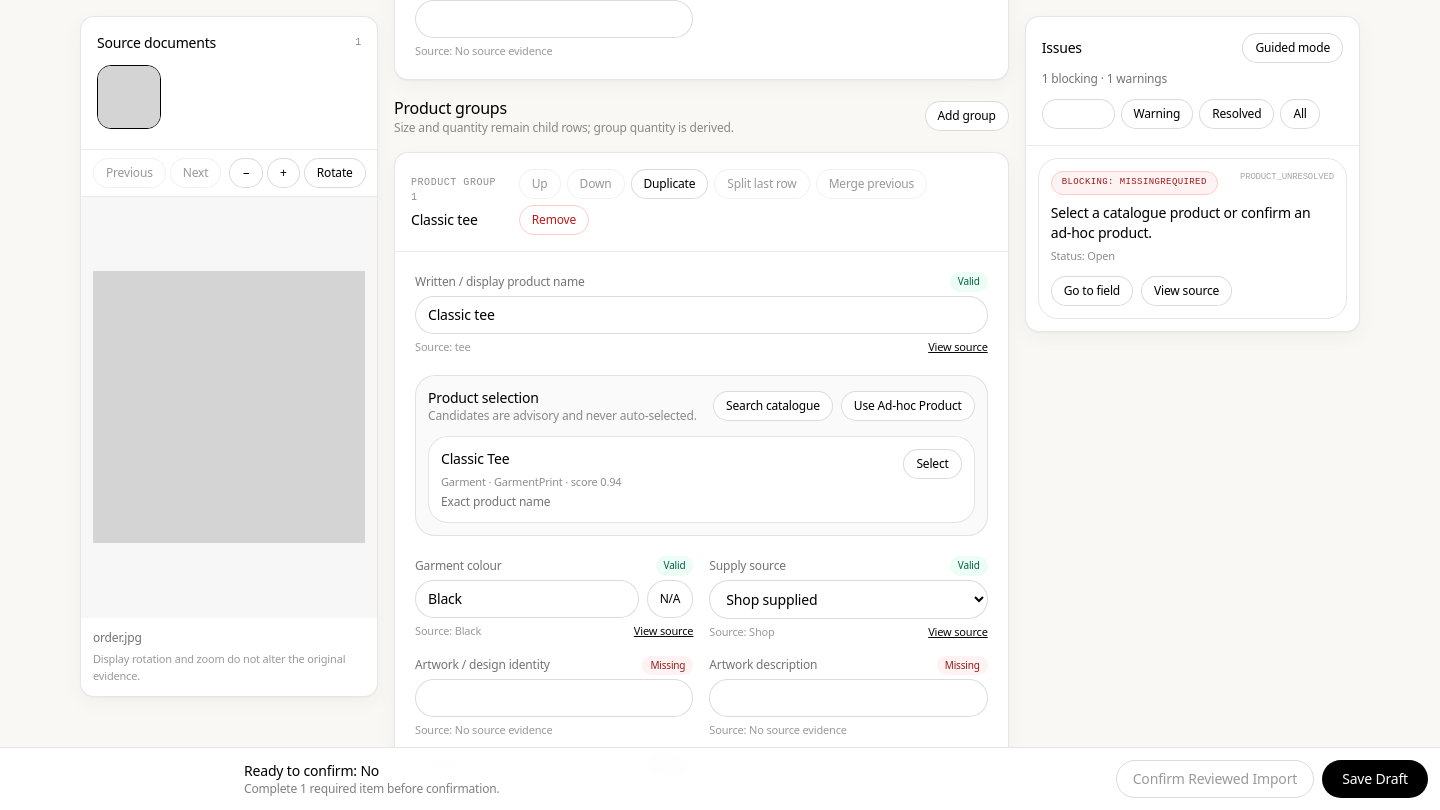
Test: AI Order Review workspace › exposes explicit ad-hoc acknowledgement and confirmation control
(page scrolled)
Expected: the text "Classic Tee" is shown, [441, 449, 509, 468]
Click the button "Use Ad-hoc Product" at (908, 406), box [841, 391, 975, 421]
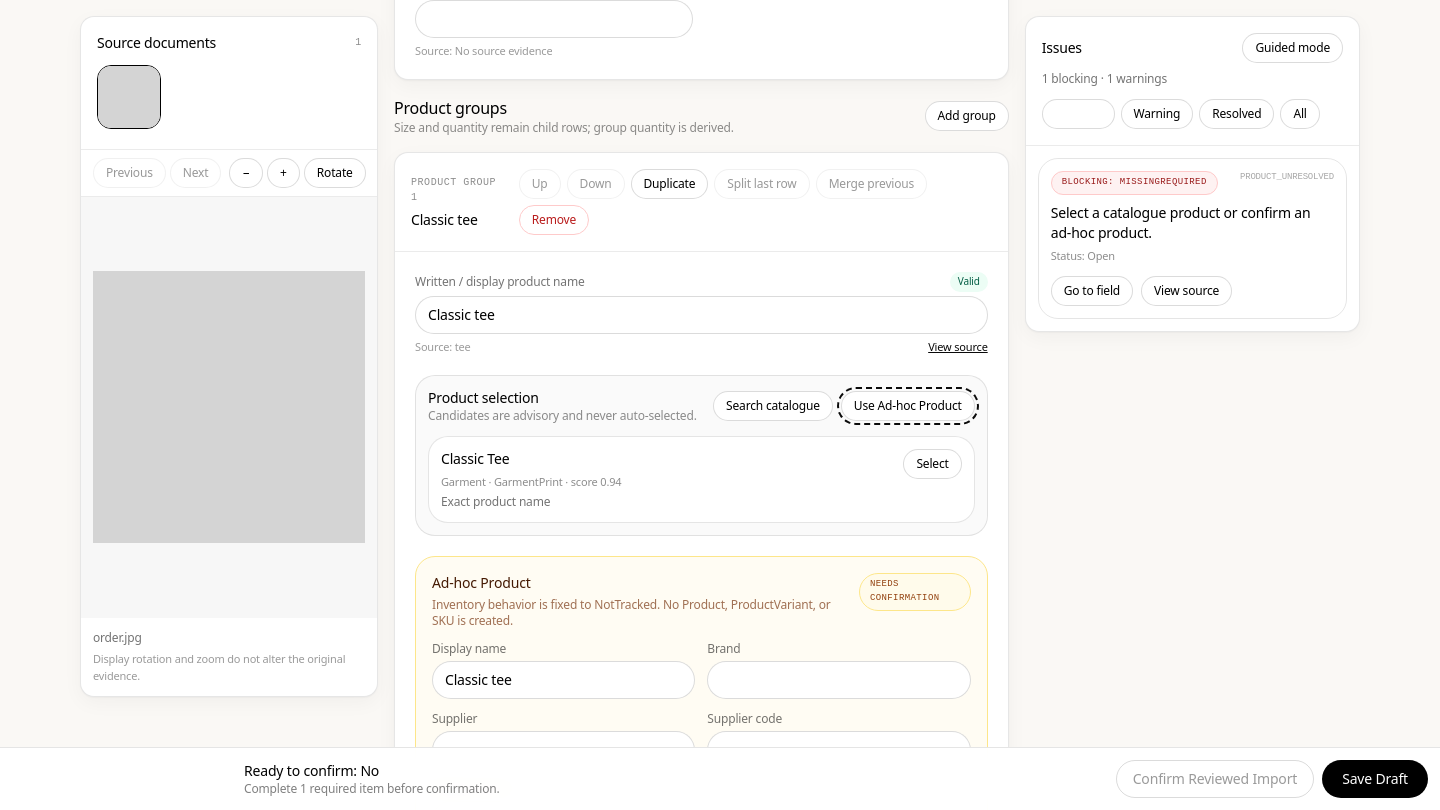
Expected: the text "No Product, ProductVariant, or SKU is created" is shown, [432, 596, 831, 629]
